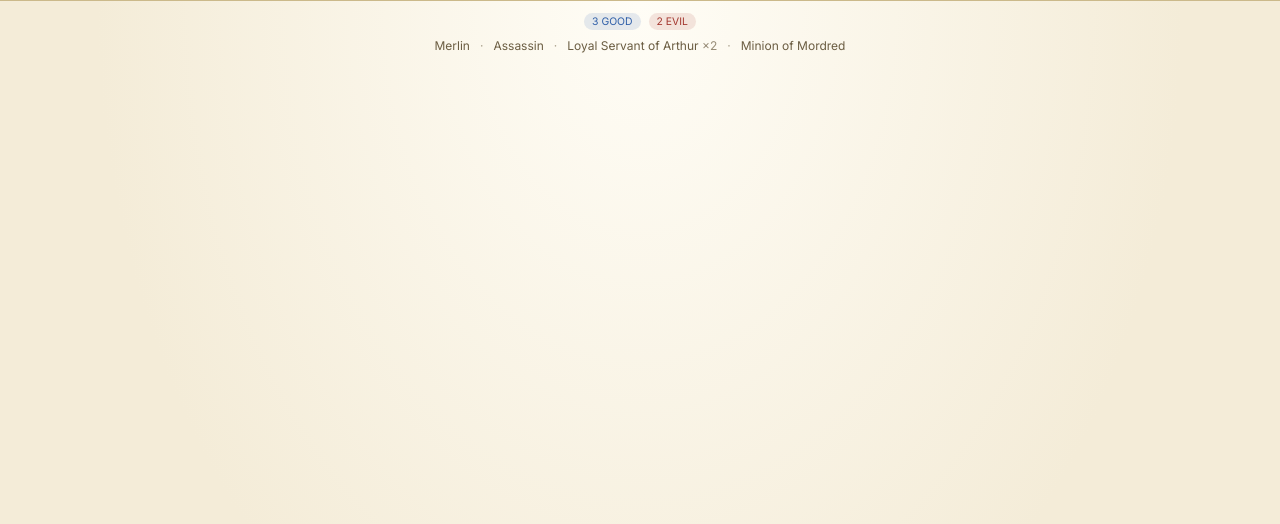
Test: CharacterFooter › shows a description for a filler role too
Click the button "Minion of Mordred": (793, 46) 737,36 -> 850,55
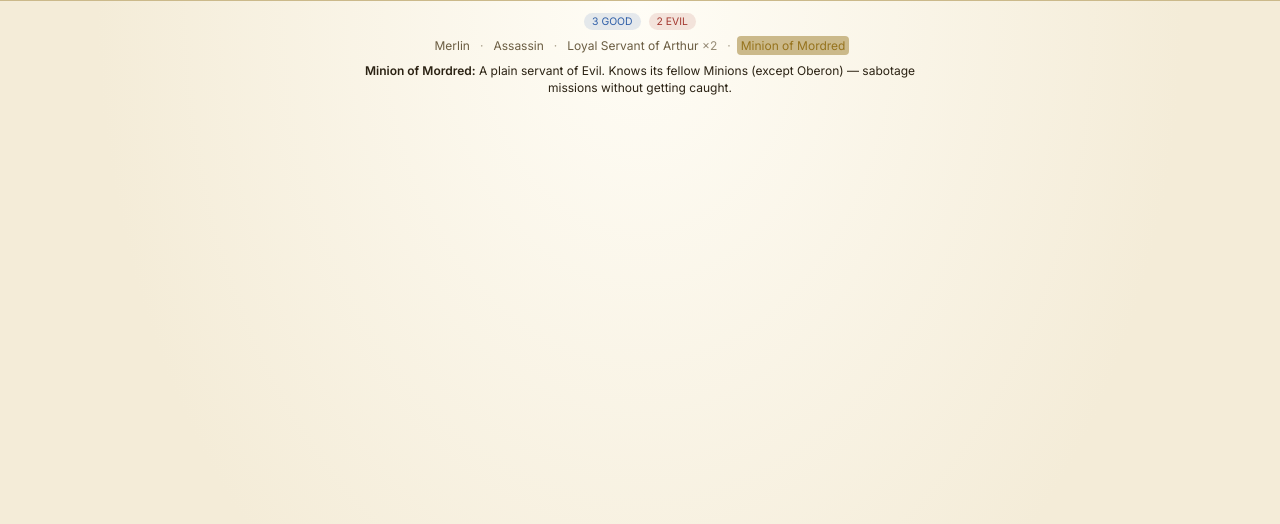
Result: the text "A plain servant of Evil" is shown at 479,63 -> 915,95
